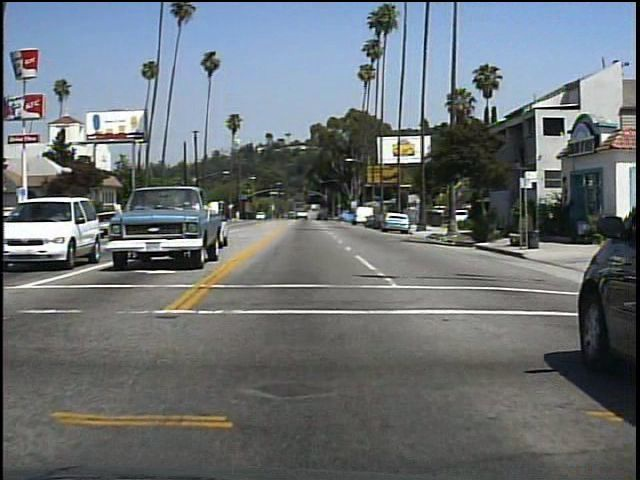person: (487, 199, 510, 246)
